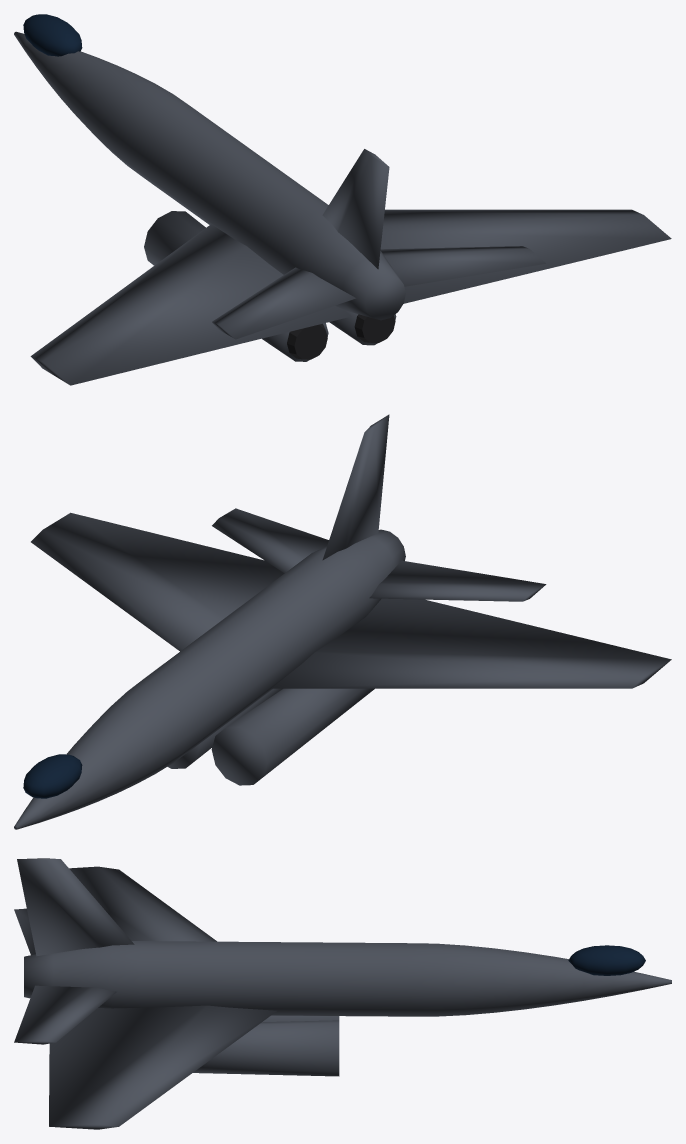
3 views of the same model, one above another, from view 1: azimuth 30°, elevation 25°; view 2: azimuth 150°, elevation 25°; view 3: azimuth 270°, elevation 25° (orthographic). The views are drawn at different scales.
Visible parts, largest first — view 1: Body, Detail, Canopy; view 2: Body, Canopy; view 3: Body, Canopy.
Boxes of the visible parts, bbox=[...] form: Body: bbox=[14, 31, 671, 385]; Detail: bbox=[287, 314, 395, 359]; Canopy: bbox=[23, 14, 82, 56]; Body: bbox=[14, 414, 671, 829]; Canopy: bbox=[23, 754, 82, 798]; Body: bbox=[14, 858, 671, 1129]; Canopy: bbox=[568, 945, 645, 975].
Bounding box in the file's own units: 41.8 × 15.18 × 45.18.
